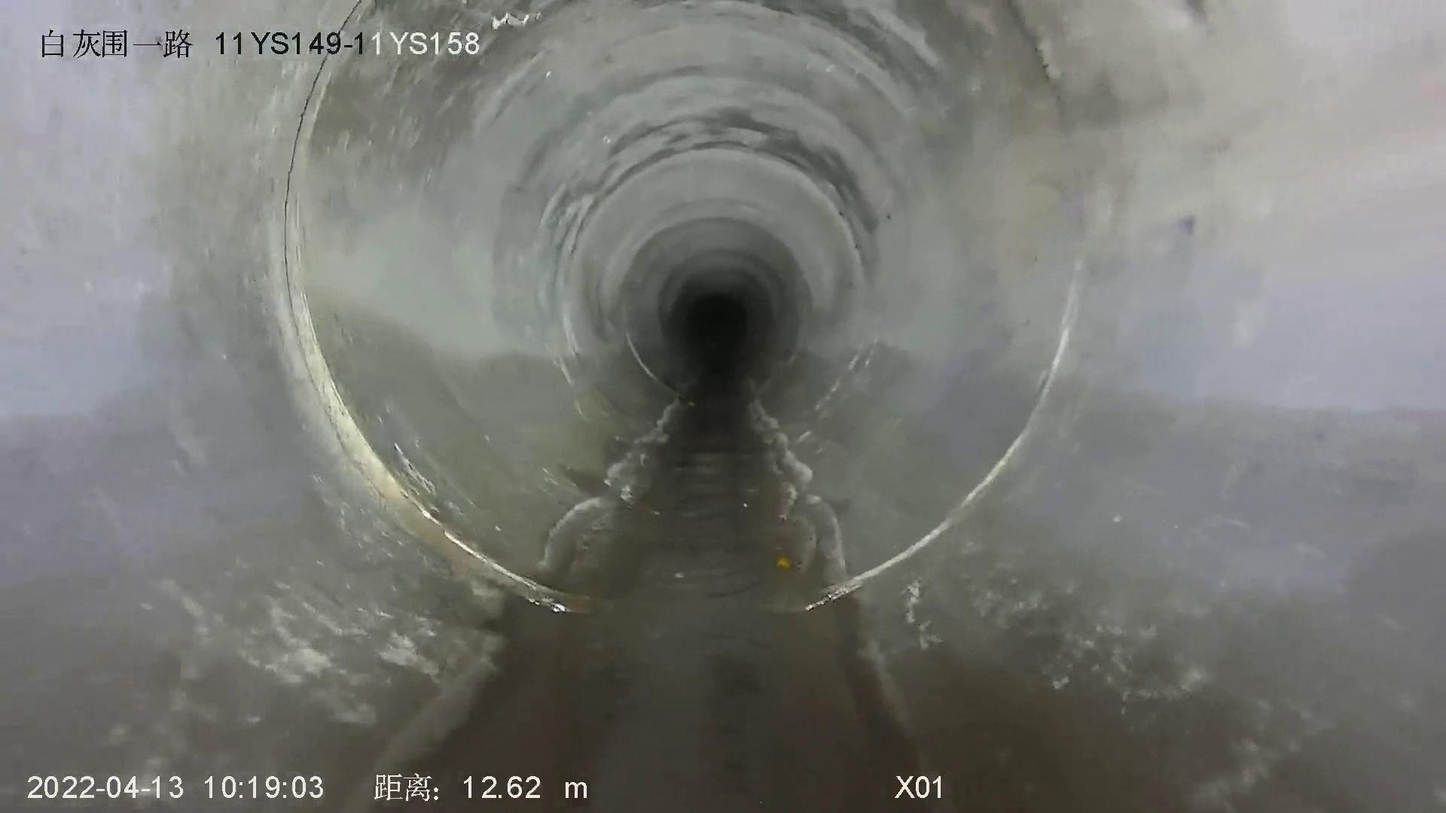CKTJ: (282, 59, 590, 612)
